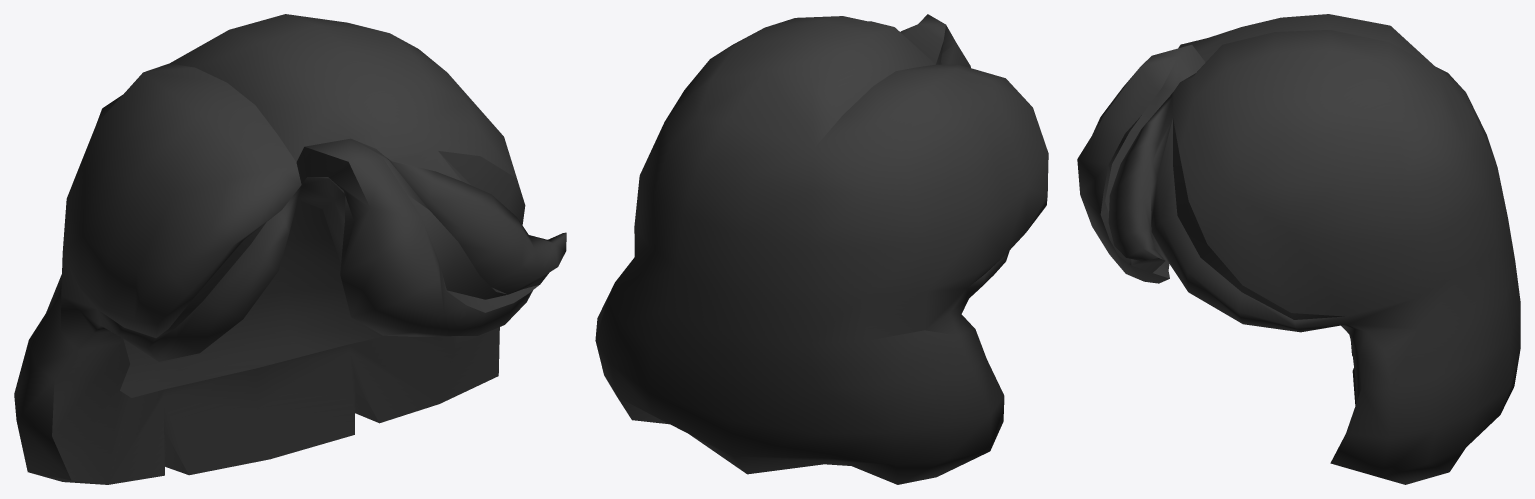
The model's file is Hair_Black_7.fbx.
3 views of the same model, side by side, from view 1: azimuth 30°, elevation 25°; view 2: azimuth 150°, elevation 25°; view 3: azimuth 270°, elevation 25° (orthographic). The views are drawn at different scales.
Parts seen in each view (by area): view 1: Hair_Black_7; view 2: Hair_Black_7; view 3: Hair_Black_7.
Part boxes in pixels (x1,y1,x2,y2): Hair_Black_7: (14,14,566,484); Hair_Black_7: (595,14,1048,484); Hair_Black_7: (1077,14,1520,484).
Size of the model in its own units: 67.35 by 62.65 by 64.72.
